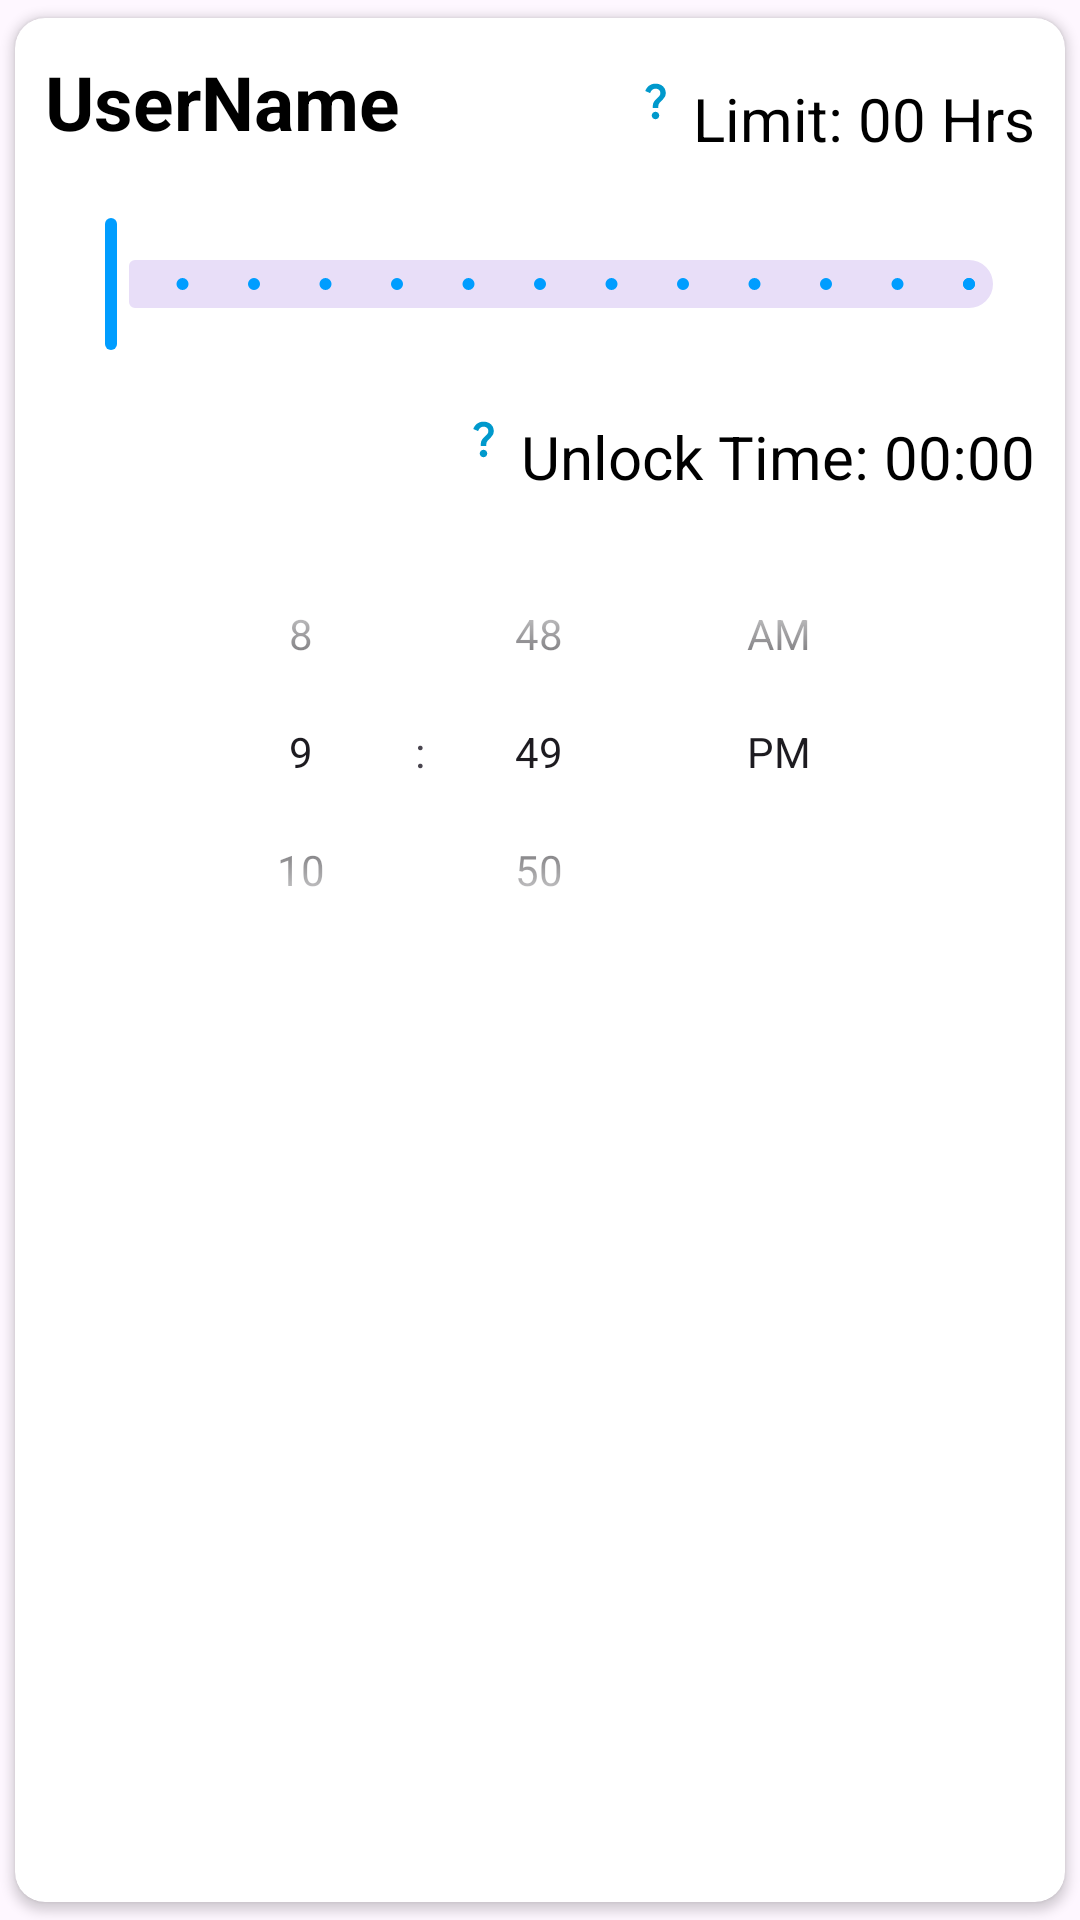

Where to tap for icons on this 1080*1920 app screen, as [x,y]:
Question Mark: [655,101], [483,439]
